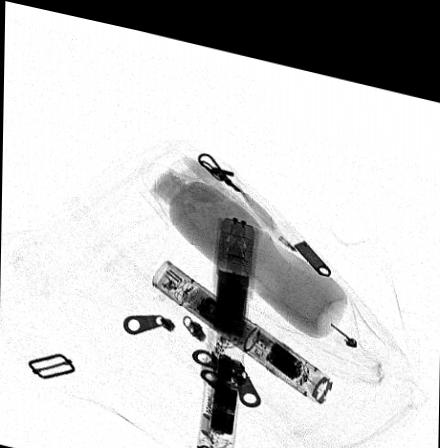Baton: (151, 250, 331, 390), (196, 202, 259, 448)
